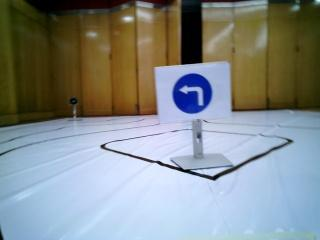left: (156, 68, 231, 119)
